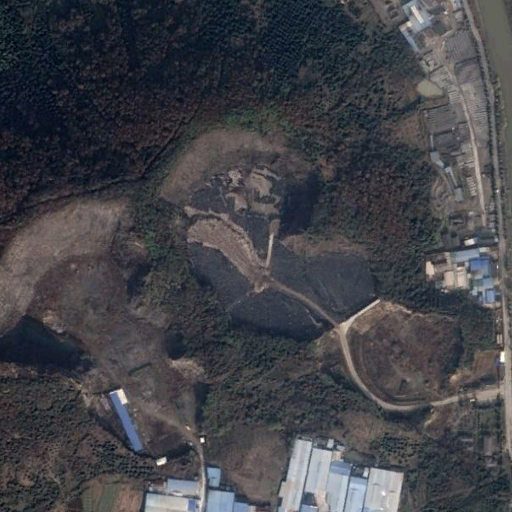lf: (182, 162, 381, 341)
